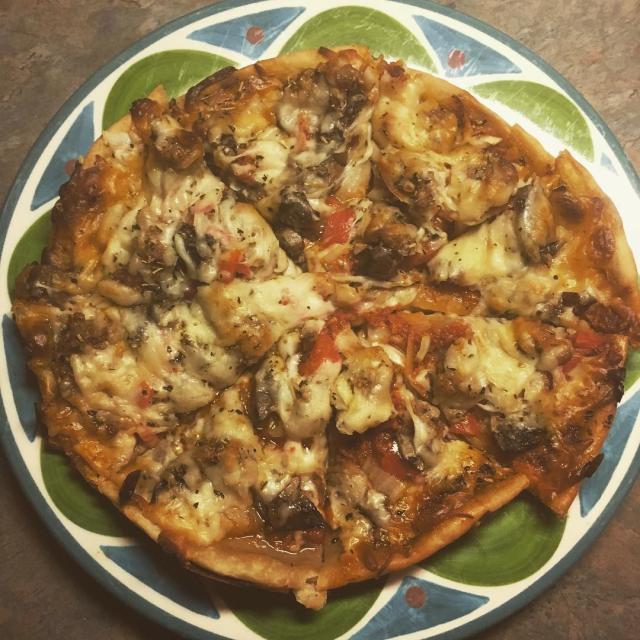pizza: (10, 42, 640, 612)
